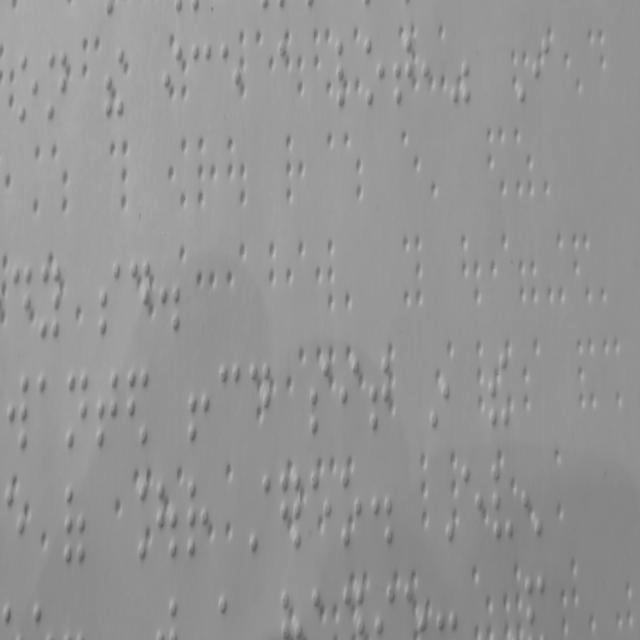braiile: (217, 360, 243, 455), (246, 359, 272, 454), (185, 472, 209, 565), (334, 31, 360, 116), (6, 363, 30, 455), (64, 368, 89, 456), (489, 456, 514, 544), (339, 349, 362, 443), (4, 480, 27, 574), (96, 363, 120, 453), (308, 353, 332, 443), (368, 349, 391, 442), (38, 256, 62, 344), (97, 258, 122, 341), (310, 462, 333, 552), (37, 364, 60, 452), (340, 464, 362, 556), (128, 258, 151, 344), (44, 44, 68, 126), (462, 458, 484, 545), (218, 40, 242, 119), (276, 32, 299, 114), (16, 47, 40, 125), (392, 32, 415, 112), (10, 262, 32, 342), (364, 32, 386, 108), (190, 40, 212, 114), (530, 32, 550, 106), (163, 41, 182, 117)
